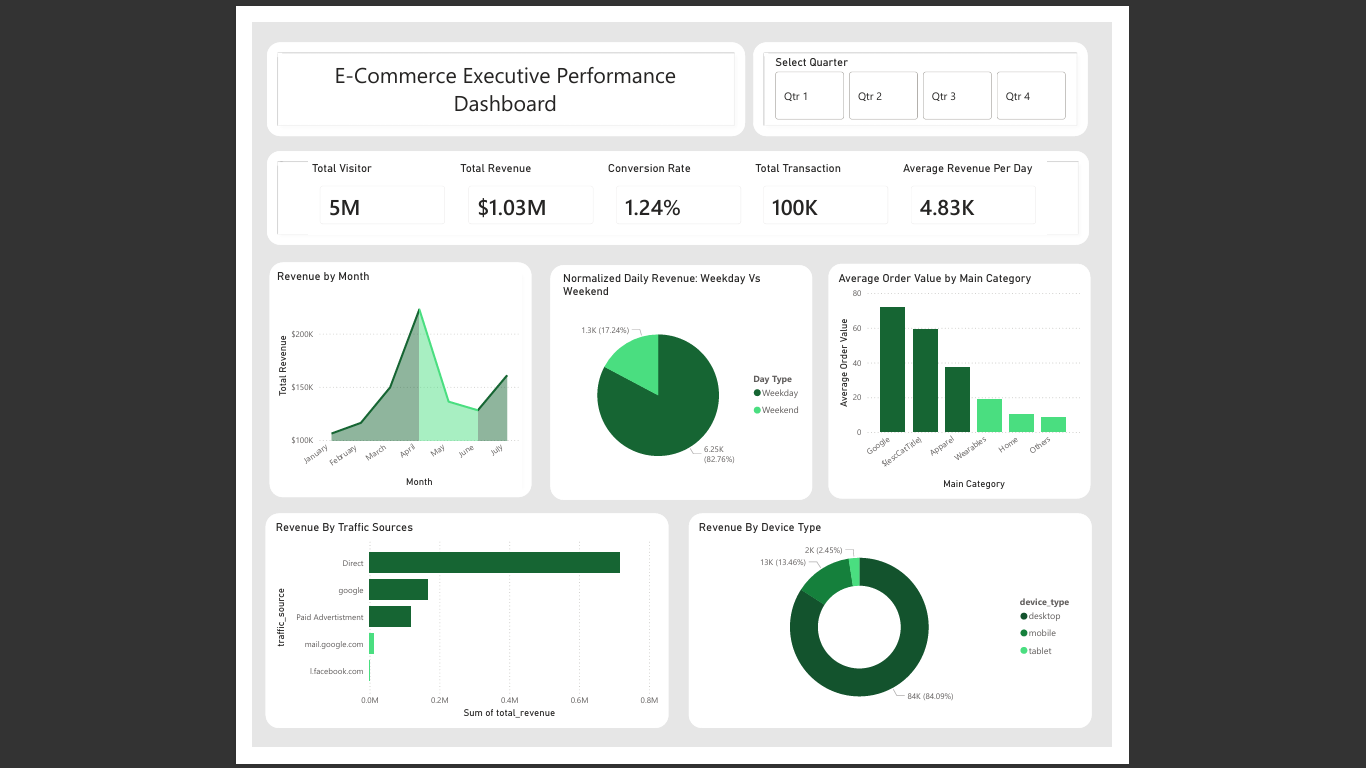

Layout of this report page (visuals, bound fields, positions):
{"tool":"powerbi","page":{"name":"Page 1","canvas":[1280,1080],"ordinal":0},"visuals":[{"type":"shape","box":[746,30,498,140],"z":0},{"type":"shape","box":[22,30,712,140],"z":250},{"type":"shape","box":[22,192,1224,140],"z":500},{"type":"shape","box":[20,732,600,320],"z":625},{"type":"shape","box":[650,732,600,320],"z":750},{"type":"shape","box":[26,358,390,350],"z":812},{"type":"shape","box":[444,362,390,350],"z":843},{"type":"shape","box":[858,360,390,350],"z":875},{"type":"cardVisual","title":"Total Visitor","fields":{"Data":["Fact_Sales.Total Visitors"]},"box":[84.2,207.8,220.3,110],"z":1000},{"type":"cardVisual","title":"Total Revenue","fields":{"Data":["Fact_Sales.Total Revenue"]},"box":[304.6,207.8,220.3,110],"z":2000},{"type":"cardVisual","title":"Conversion Rate","fields":{"Data":["Fact_Sales.Conversion Rate"]},"box":[524.9,207.8,220.3,110],"z":3000},{"type":"cardVisual","title":"Total Transaction","fields":{"Data":["Fact_Sales.Total Transactions"]},"box":[744,208,220,110],"z":4000},{"type":"cardVisual","title":"Average Revenue Per Day","fields":{"Data":["Fact_Sales.Average Revenue per Day"]},"box":[964,208,220,110],"z":5000},{"type":"lineChart","title":"Revenue by Month","fields":{"Category":["Fact_Sales.session_date.Variation.Date Hierarchy.Year","Fact_Sales.session_date.Variation.Date Hierarchy.Quarter","Fact_Sales.session_date.Variation.Date Hierarchy.Month","Fact_Sales.session_date.Variation.Date Hierarchy.Day"],"Y":["Fact_Sales.Total Revenue"]},"box":[32,368,370,330],"z":6000},{"type":"pieChart","title":"Normalized Daily Revenue: Weekday Vs Weekend","fields":{"Category":["Fact_Sales.Day Type"],"Y":["Fact_Sales.Average Revenue per Day"]},"box":[458,372,370,330],"z":7000},{"type":"columnChart","fields":{"Y":["Fact_Sales.Average Order Value"],"Category":["Dim-Product.Main Category"]},"box":[868.3,371,370,330],"z":8000},{"type":"donutChart","title":"Revenue By Device Type","fields":{"Category":["Dim-Marketing (2).device_type"],"Y":["Fact_Sales.Total Transactions"]},"box":[660,742,580,300],"z":9000},{"type":"barChart","title":"Revenue By Traffic Sources","fields":{"Y":["Sum(Fact_Sales.total_revenue)"],"Category":["Dim-Marketing (2).traffic_source"]},"box":[30,742,580,300],"z":10000},{"type":"textbox","box":[64,50,626,100],"z":11000},{"type":"advancedSlicerVisual","title":"Select Quarter","fields":{"Values":["Fact_Sales.session_date.Variation.Date Hierarchy.Quarter"]},"box":[774,50,442,100],"z":12000}]}

Visuals, with their boxes in screenshot pixels (x1, y1, x2, y2):
shape: region(760, 22, 1122, 124)
shape: region(233, 22, 751, 124)
shape: region(233, 140, 1123, 242)
shape: region(232, 532, 668, 765)
shape: region(690, 532, 1126, 765)
shape: region(236, 260, 520, 515)
shape: region(540, 263, 824, 518)
shape: region(841, 262, 1125, 516)
"Total Visitor" cardVisual: region(278, 151, 438, 231)
"Total Revenue" cardVisual: region(439, 151, 599, 231)
"Conversion Rate" cardVisual: region(599, 151, 759, 231)
"Total Transaction" cardVisual: region(758, 151, 918, 231)
"Average Revenue Per Day" cardVisual: region(918, 151, 1078, 231)
"Revenue by Month" lineChart: region(240, 268, 509, 508)
"Normalized Daily Revenue: Weekday Vs Weekend" pieChart: region(550, 271, 819, 511)
columnChart - Fact_Sales.Average Order Value x Dim-Product.Main Category: region(849, 270, 1118, 510)
"Revenue By Device Type" donutChart: region(697, 540, 1119, 758)
"Revenue By Traffic Sources" barChart: region(239, 540, 661, 758)
textbox: region(264, 36, 719, 109)
"Select Quarter" advancedSlicerVisual: region(780, 36, 1102, 109)
